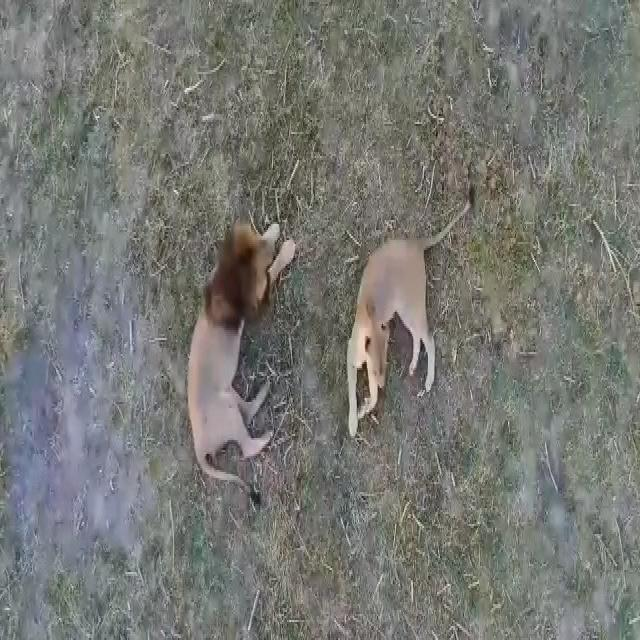Lion: (181, 202, 312, 498), (342, 202, 462, 432)
